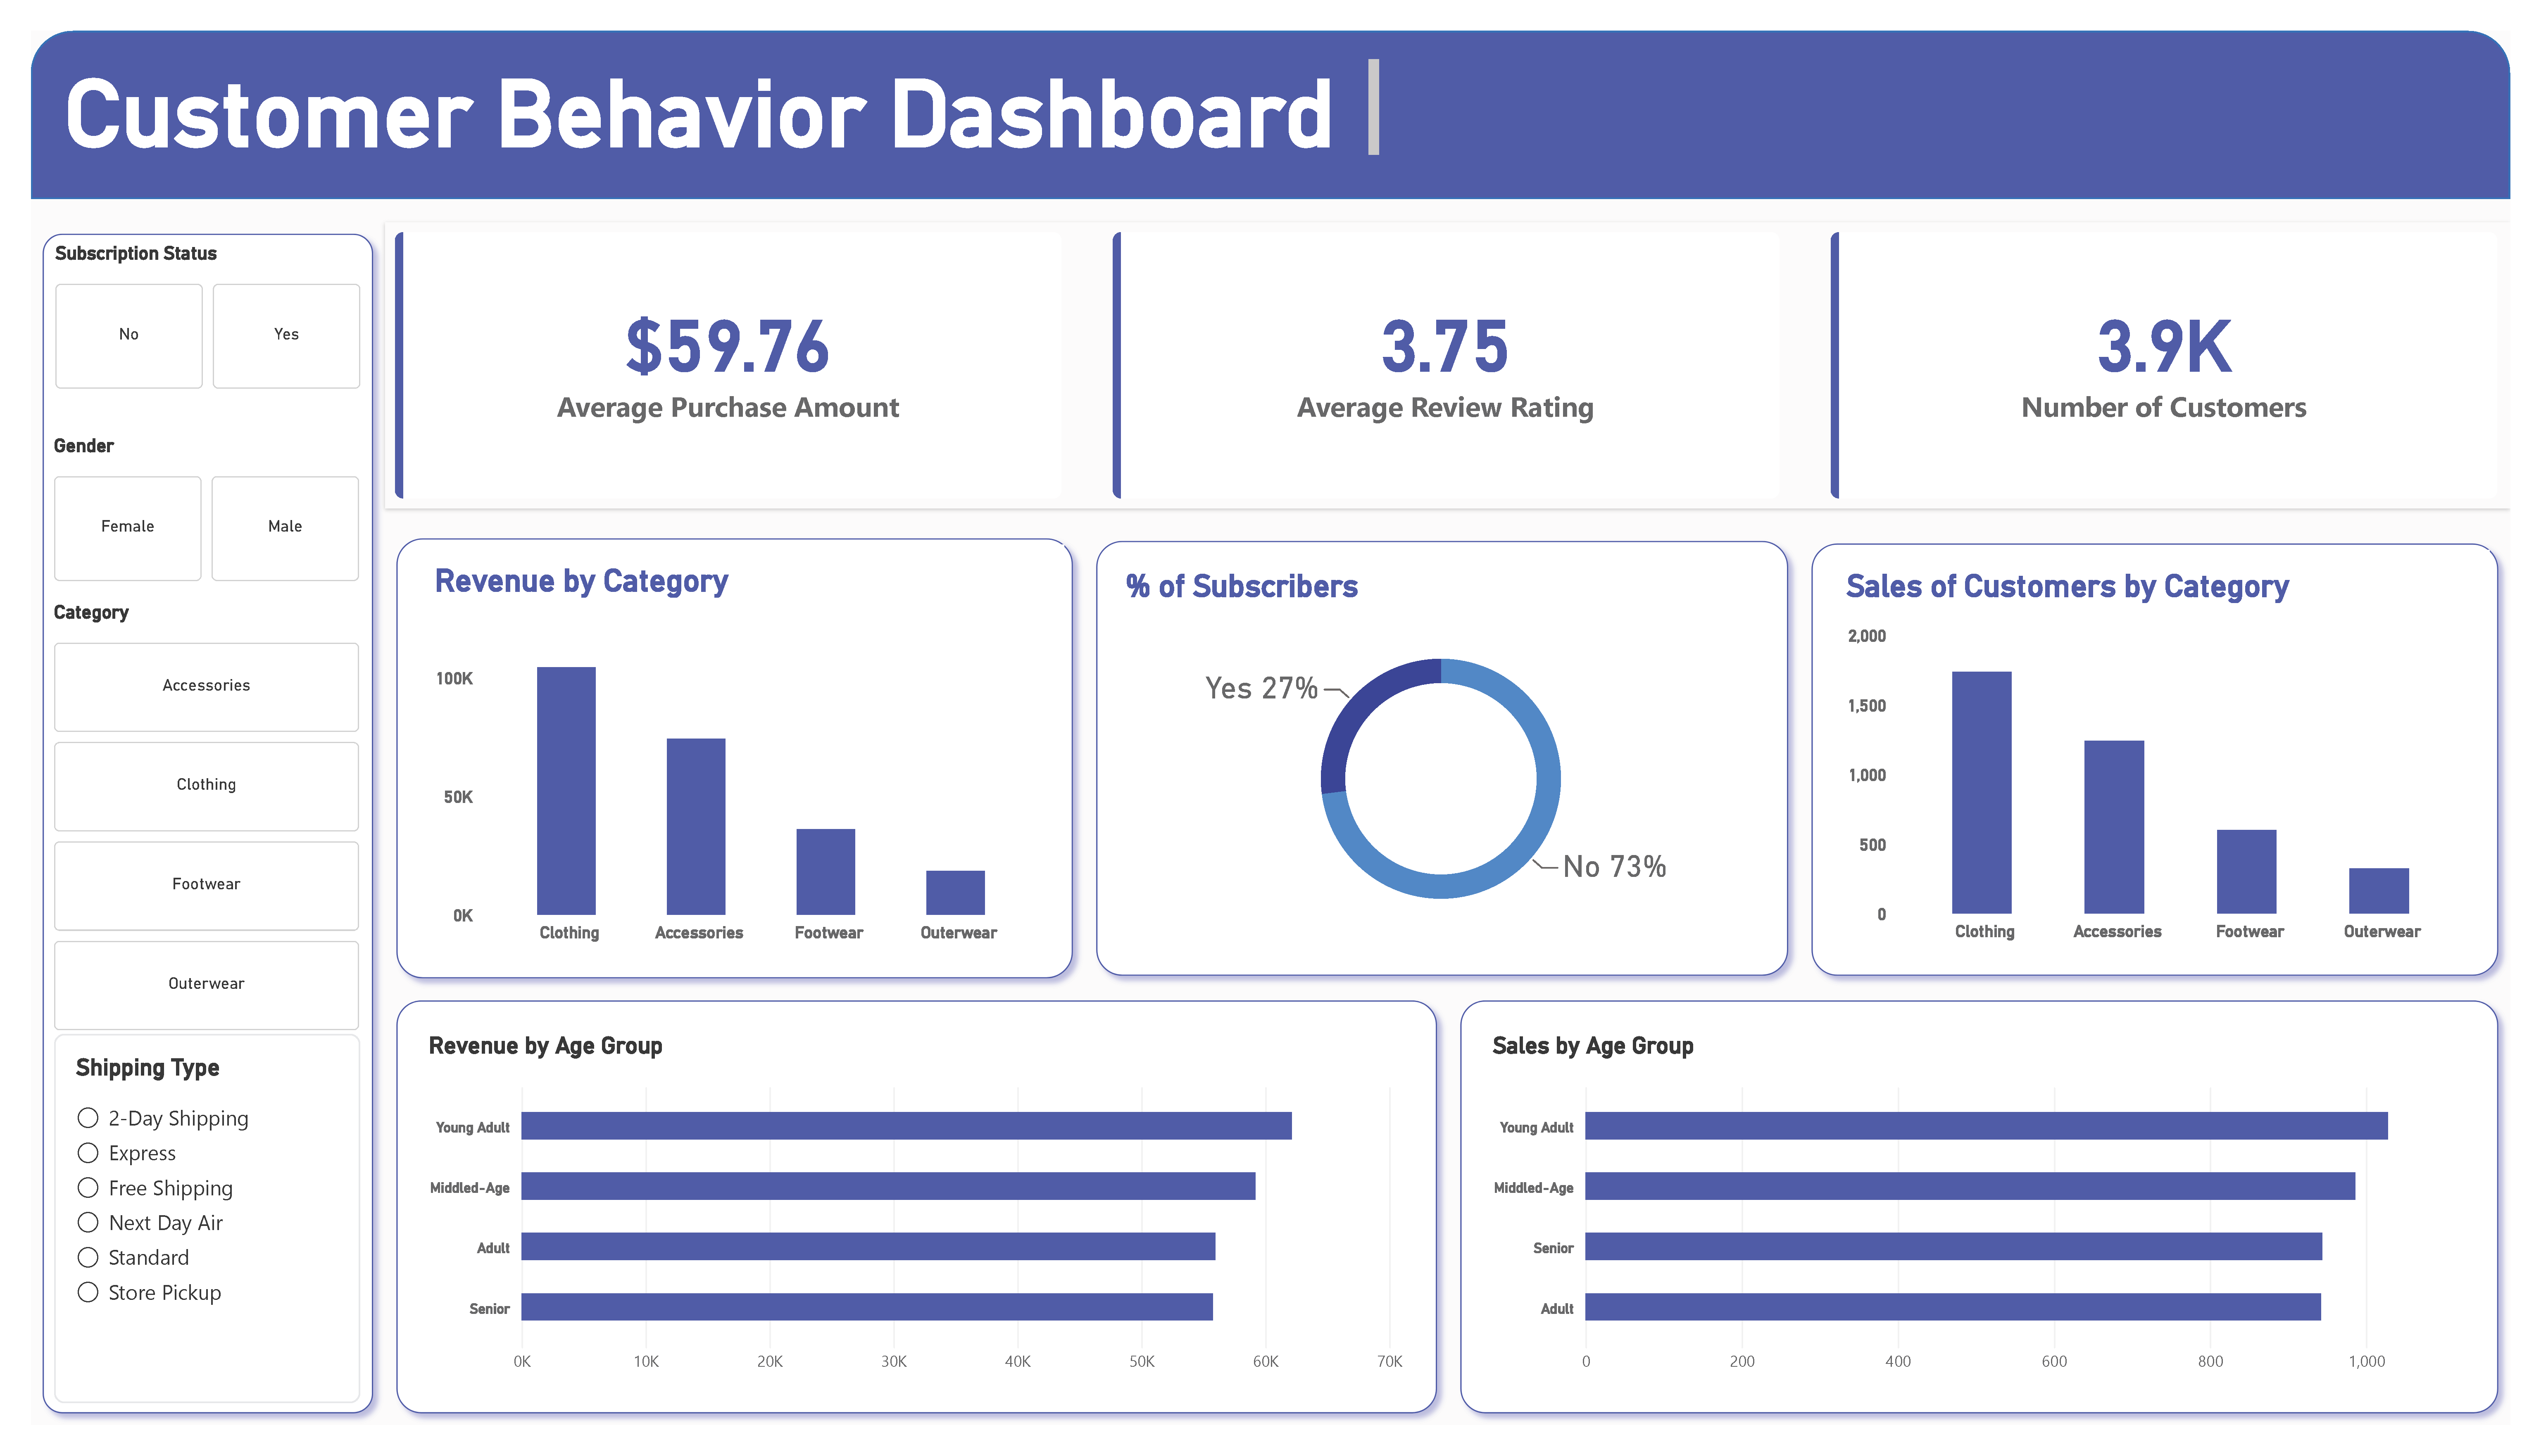

The page's visual inventory and layout, read from the dashboard file:
{"tool":"powerbi","page":{"name":"Page 1","canvas":[1920,1080],"ordinal":0},"visuals":[{"type":"cardVisual","fields":{"Data":["customer_eda customer_behaviour.Average Purchase Amount","customer_eda customer_behaviour.Average Review Rating","customer_eda customer_behaviour.Number of Customers"]},"box":[274,148,1646,222],"z":0},{"type":"shape","box":[0,0,1920,130],"z":1000},{"type":"textbox","box":[0,22,1044,78],"z":2000},{"type":"shape","box":[0,147.7,274,932],"z":3000,"group":"g4"},{"type":"shape","box":[274,384,542,358.9],"z":3000,"group":"g3"},{"type":"group","id":"g1","title":"Group 1","box":[816,386,554,355],"z":3000},{"type":"shape","box":[816,386,554,355],"z":3000,"group":"g1"},{"type":"shape","box":[274,742,824,338],"z":3000,"group":"g7"},{"type":"shape","box":[1098,742,822,338],"z":3000,"group":"g8"},{"type":"group","id":"g2","title":"Group 2","box":[1370,388,550,353],"z":4000},{"type":"donutChart","title":"% of Subscribers","fields":{"Category":["customer_eda customer_behaviour.subscription_status"],"Y":["CountNonNull(customer_eda customer_behaviour.customer_id)"]},"box":[832,402,520,314],"z":4000,"group":"g1"},{"type":"group","id":"g3","title":"Group 3","box":[274,384,542,358.9],"z":5000},{"type":"shape","box":[1370,388,550,353],"z":5000,"group":"g2"},{"type":"advancedSlicerVisual","title":"Subscription Status","fields":{"Values":["customer_eda customer_behaviour.subscription_status"]},"box":[19,164,236,113],"z":5002,"group":"g4"},{"type":"advancedSlicerVisual","title":"Gender","fields":{"Values":["customer_eda customer_behaviour.gender"]},"box":[18.3,313.3,236,113],"z":5002,"group":"g5"},{"type":"advancedSlicerVisual","title":"Category","fields":{"Values":["customer_eda customer_behaviour.category"]},"box":[18.3,441.7,236.7,335],"z":5002,"group":"g6"},{"type":"group","id":"g4","title":"Group 1","box":[0,147.7,274,932],"z":6000},{"type":"clusteredColumnChart","title":"Revenue by Category","fields":{"Category":["customer_eda customer_behaviour.category"],"Y":["Sum(customer_eda customer_behaviour.purchase_amount_usd)"]},"box":[296.9,398.3,502.9,327.1],"z":6000,"group":"g3"},{"type":"group","id":"g5","title":"Group 1","box":[18.3,313.3,236.7,113.3],"z":7000},{"type":"clusteredColumnChart","title":"Sales of Customers by Category","fields":{"Category":["customer_eda customer_behaviour.category"],"Y":["CountNonNull(customer_eda customer_behaviour.customer_id)"]},"box":[1390,402,514,322],"z":7000,"group":"g2"},{"type":"group","id":"g6","title":"Group 1","box":[18.3,441.7,236.7,335],"z":8000},{"type":"clusteredBarChart","title":"Revenue by Age Group","fields":{"Category":["customer_eda customer_behaviour.age_group"],"Y":["Sum(customer_eda customer_behaviour.purchase_amount_usd)"]},"box":[292.5,761.4,785.2,298.6],"z":8004,"group":"g7"},{"type":"clusteredBarChart","title":"Sales by Age Group","fields":{"Category":["customer_eda customer_behaviour.age_group"],"Y":["CountNonNull(customer_eda customer_behaviour.customer_id)"]},"box":[1116.4,761.4,783.3,298.6],"z":8004,"group":"g8"},{"type":"listSlicer","title":"Shipping Type","fields":{"Values":["customer_eda customer_behaviour.shipping_type"]},"box":[18.3,776.7,236.7,286.7],"z":9000},{"type":"group","id":"g7","title":"Group 3","box":[274,742,824,338],"z":10000},{"type":"group","id":"g8","title":"Group 3","box":[1098,742,822,338],"z":11000}]}

Visuals, with their boxes on the page's 1920x1080 design canvas (x1, y1, x2, y2). These are canvas units, not pixel positions in the 2541x1456 screenshot, which may show the page scaled, cropped or inside an application window:
cardVisual - customer_eda customer_behaviour.Average Purchase Amount x customer_eda customer_behaviour.Average Review Rating: crop(274, 148, 1920, 370)
shape: crop(0, 0, 1920, 130)
textbox: crop(0, 22, 1044, 100)
shape: crop(0, 148, 274, 1080)
shape: crop(274, 384, 816, 743)
"Group 1" group: crop(816, 386, 1370, 741)
shape: crop(816, 386, 1370, 741)
shape: crop(274, 742, 1098, 1080)
shape: crop(1098, 742, 1920, 1080)
"Group 2" group: crop(1370, 388, 1920, 741)
"% of Subscribers" donutChart: crop(832, 402, 1352, 716)
"Group 3" group: crop(274, 384, 816, 743)
shape: crop(1370, 388, 1920, 741)
"Subscription Status" advancedSlicerVisual: crop(19, 164, 255, 277)
"Gender" advancedSlicerVisual: crop(18, 313, 254, 426)
"Category" advancedSlicerVisual: crop(18, 442, 255, 777)
"Group 1" group: crop(0, 148, 274, 1080)
"Revenue by Category" clusteredColumnChart: crop(297, 398, 800, 725)
"Group 1" group: crop(18, 313, 255, 427)
"Sales of Customers by Category" clusteredColumnChart: crop(1390, 402, 1904, 724)
"Group 1" group: crop(18, 442, 255, 777)
"Revenue by Age Group" clusteredBarChart: crop(292, 761, 1078, 1060)
"Sales by Age Group" clusteredBarChart: crop(1116, 761, 1900, 1060)
"Shipping Type" listSlicer: crop(18, 777, 255, 1063)
"Group 3" group: crop(274, 742, 1098, 1080)
"Group 3" group: crop(1098, 742, 1920, 1080)
